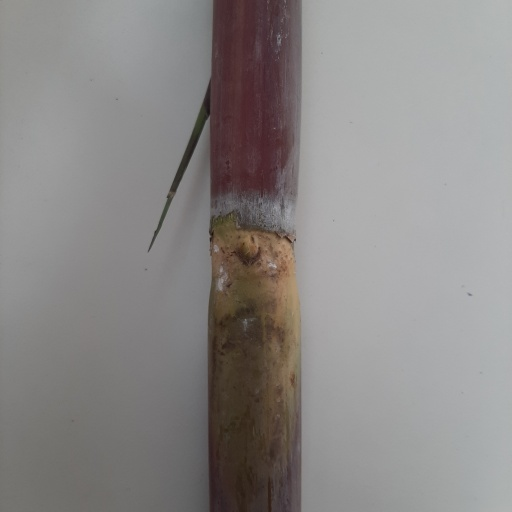Bud: (235, 235, 263, 266)
